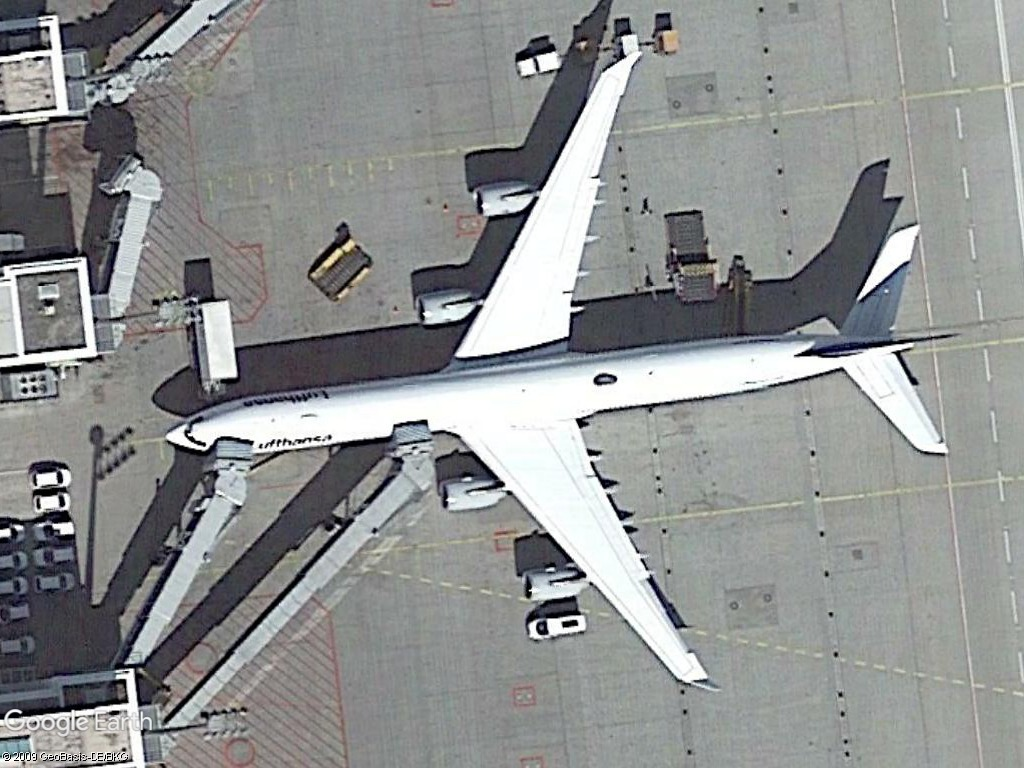airliner: (155, 40, 951, 703)
van: (522, 611, 589, 647)
